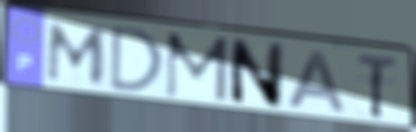A: (285, 48, 348, 115)
D: (107, 23, 166, 94)
M: (162, 31, 231, 105), (44, 21, 111, 87)
N: (227, 36, 287, 111)
T: (354, 50, 399, 121)
